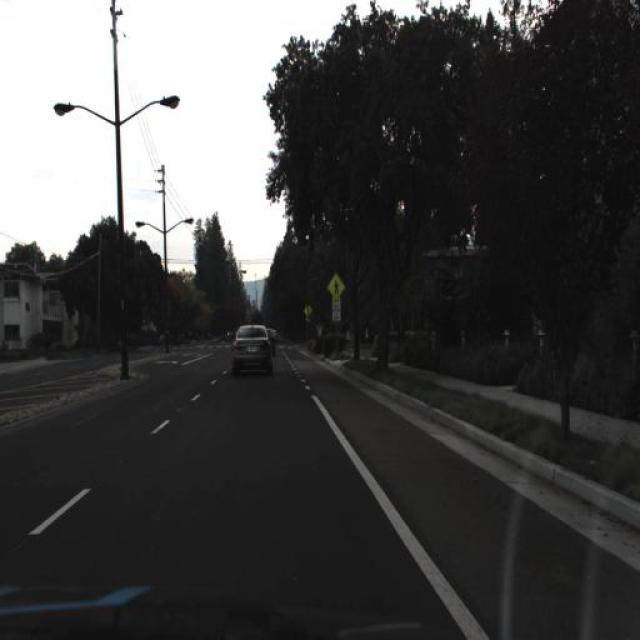car: (231, 321, 277, 379), (264, 318, 282, 368)
